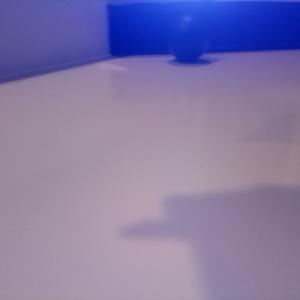dead_ball: (165, 14, 210, 60)
